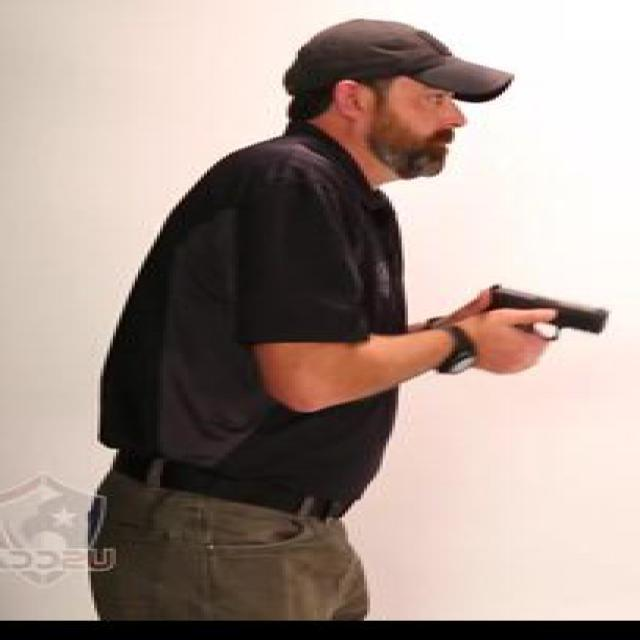Gun: (458, 279, 618, 369)
